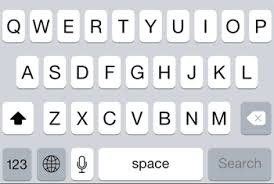keyboard: (2, 4, 271, 179)
